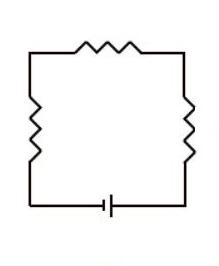resistor: (165, 85, 210, 173), (12, 83, 58, 168), (64, 24, 155, 65)
